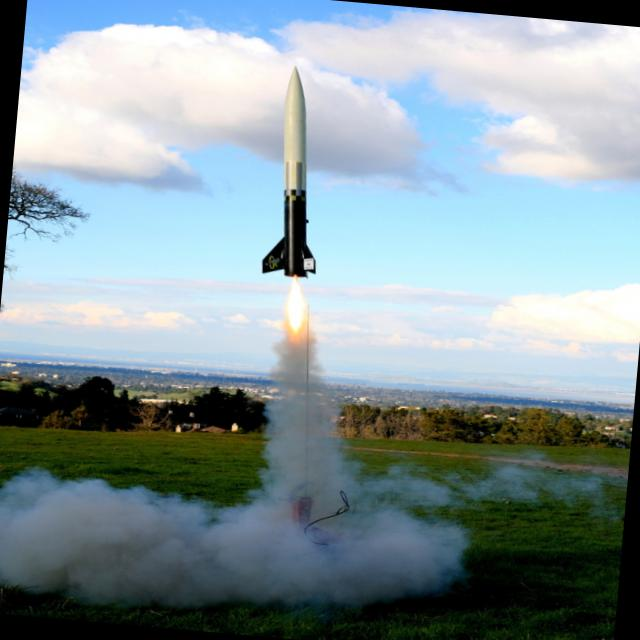rocket: (242, 54, 347, 428)
